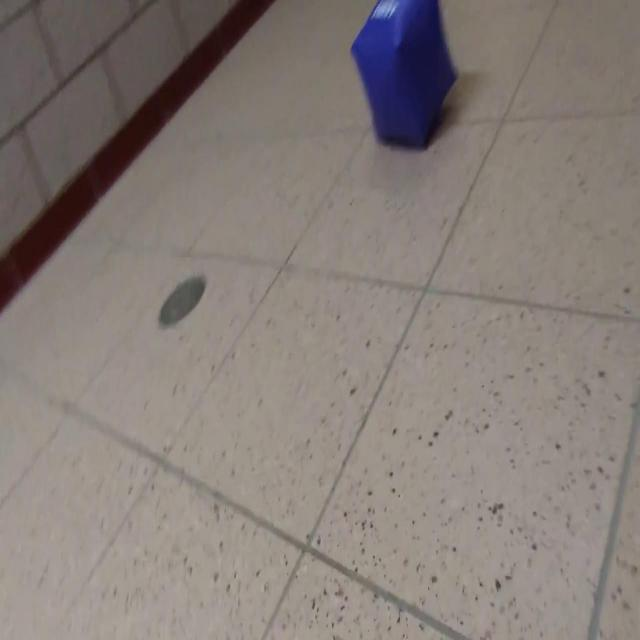frc_cube: (348, 0, 456, 152)
